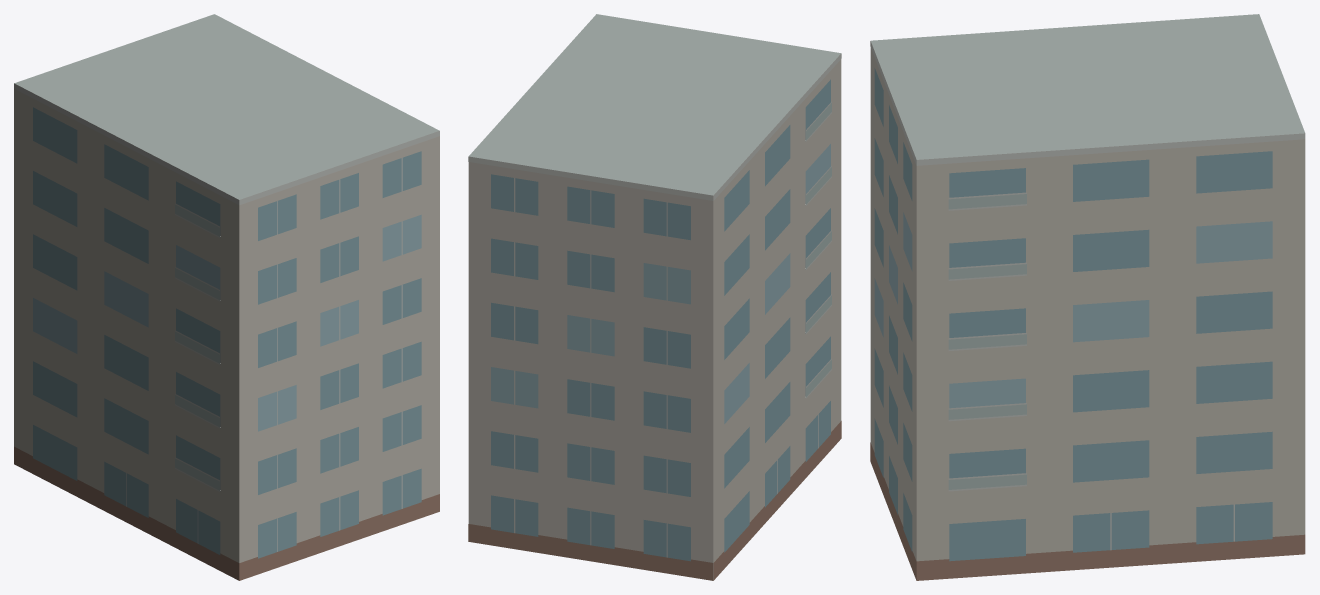
File: survey-upis-32738757.glb
3 renders of one model, left to right at view 1: azimuth 30°, elevation 25°; view 2: azimuth 150°, elevation 25°; view 3: azimuth 270°, elevation 25°, orthographic. The views are drawn at different scales.
Parts seen in each view (by area): view 1: survey-upis-32738757.tmp; view 2: survey-upis-32738757.tmp; view 3: survey-upis-32738757.tmp.
Boxes of the visible parts, x1=… form: survey-upis-32738757.tmp: x1=14, y1=14, x2=439, y2=580; survey-upis-32738757.tmp: x1=468, y1=14, x2=841, y2=580; survey-upis-32738757.tmp: x1=870, y1=14, x2=1305, y2=580.
Bounding box in the file's own units: 12.88 × 17.3 × 16.21.
